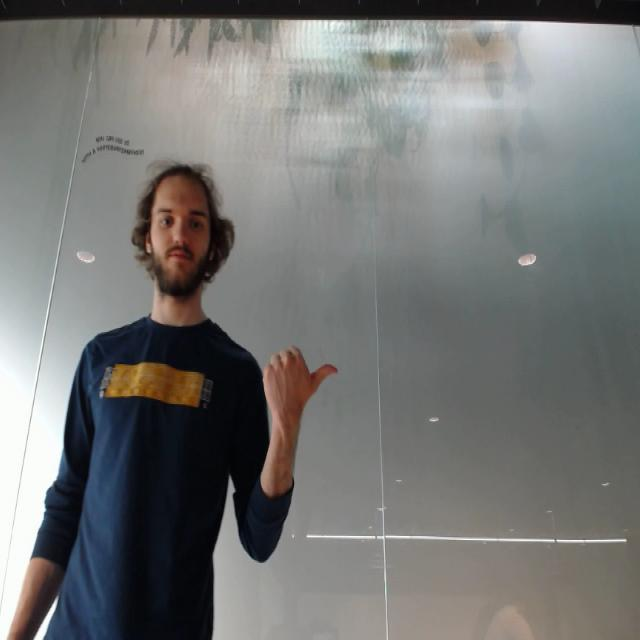right: (260, 341, 342, 425)
